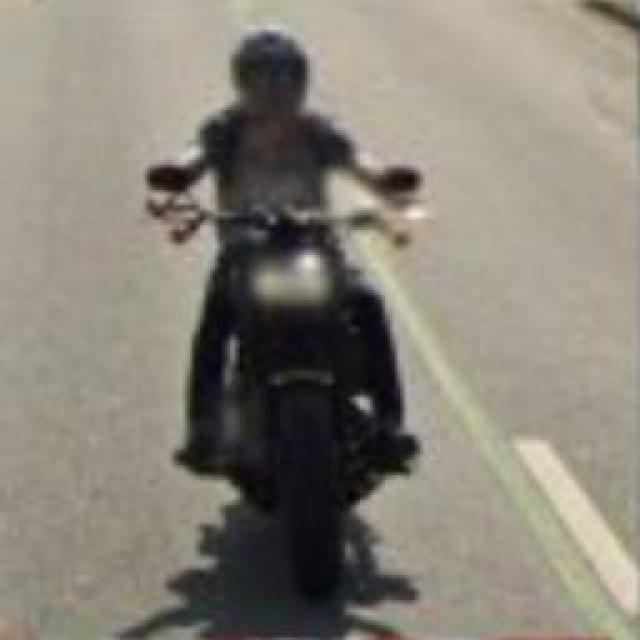motorcycle: (188, 202, 390, 600)
